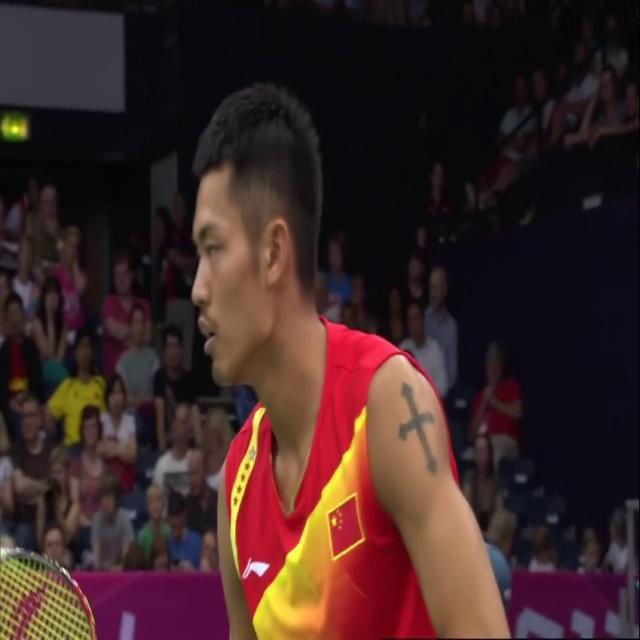Player2: (187, 85, 409, 639)
